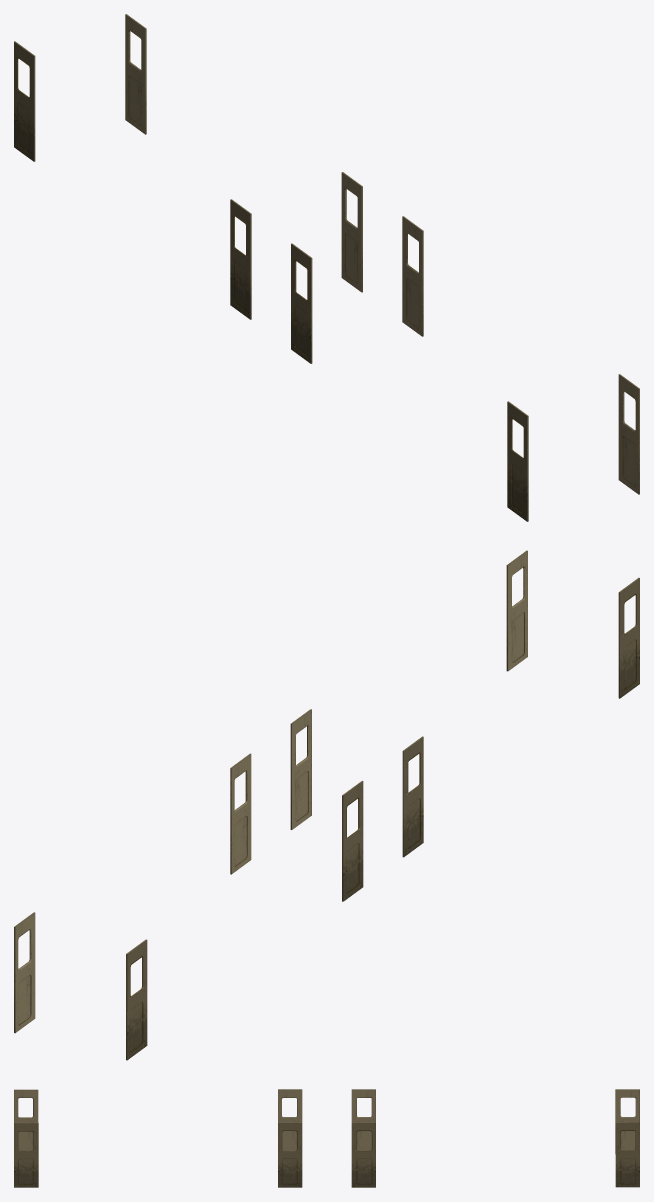
The model's file is train_doors.obj.
The picture shows the model from 3 angles, top to bottom: view 1: azimuth 30°, elevation 25°; view 2: azimuth 150°, elevation 25°; view 3: azimuth 270°, elevation 25°; orthographic projection. The views are drawn at different scales.
Visible parts, largest first — view 1: doors.001; view 2: doors.001; view 3: doors.001.
Part boxes in pixels (<box>): doors.001: <box>14,14,639,521</box>; doors.001: <box>14,550,639,1060</box>; doors.001: <box>14,1089,639,1187</box>.
Size of the model in its own units: 0.3348 by 0.2967 by 2.61.
